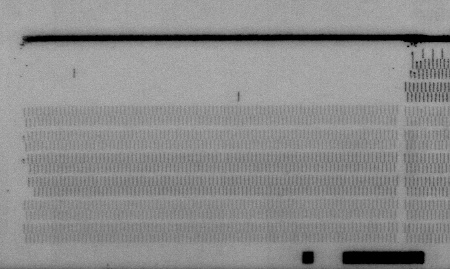Broken hole: (20, 41, 403, 108), (22, 186, 36, 199)
Oblique printing: (406, 57, 424, 77)
